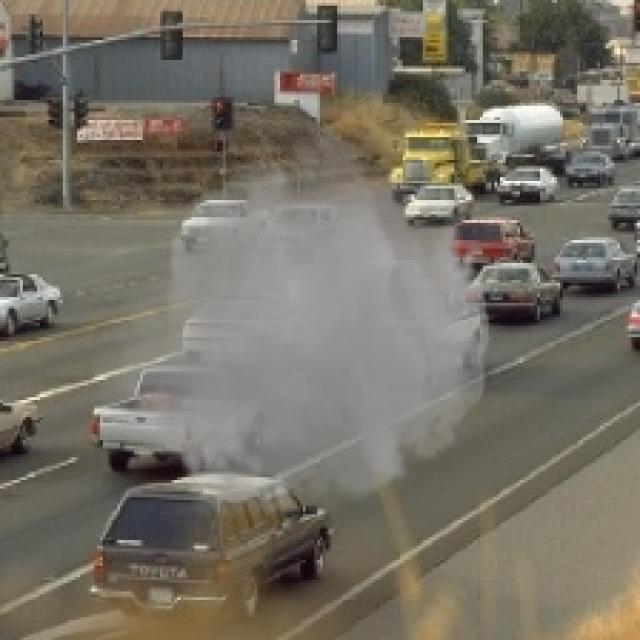smoke: (89, 111, 500, 534)
